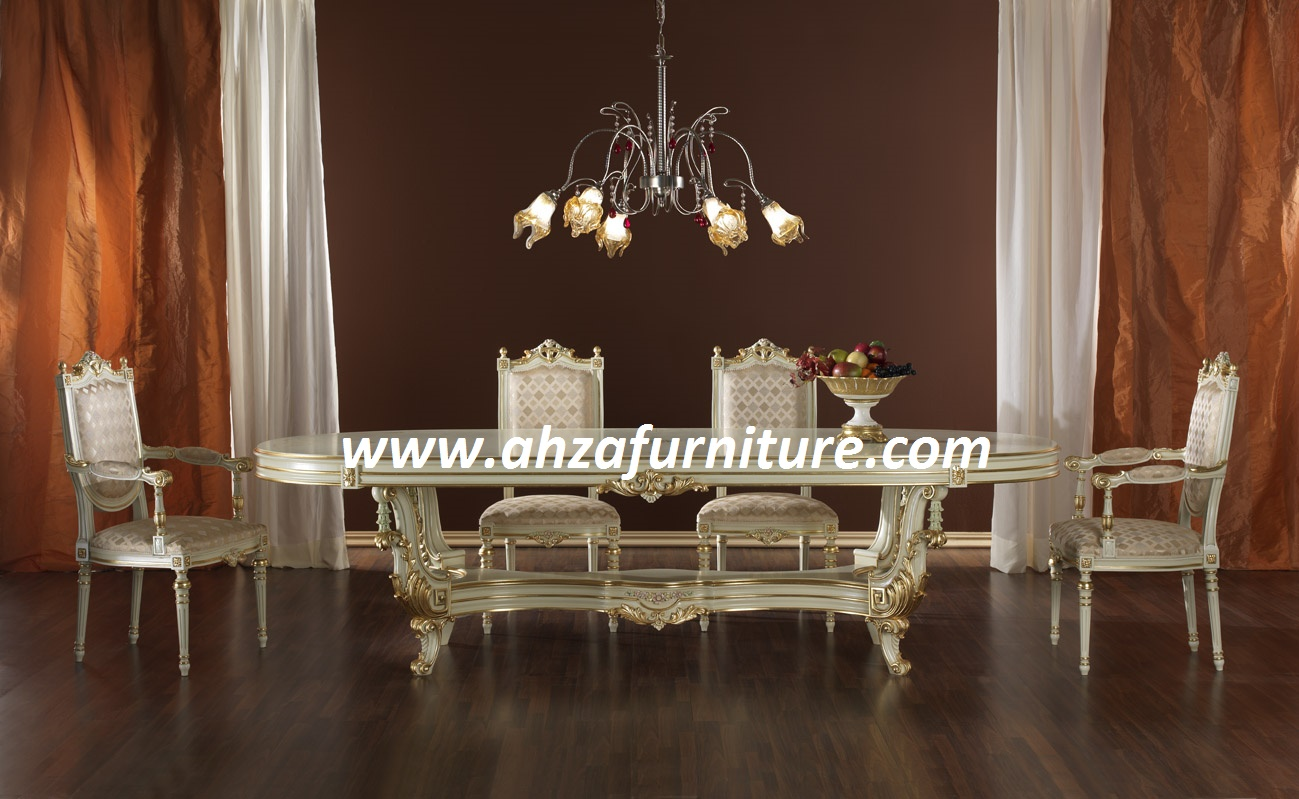Carving Chair: (39, 348, 281, 696), (1064, 359, 1272, 679)
Carving Table: (228, 416, 1047, 676)
